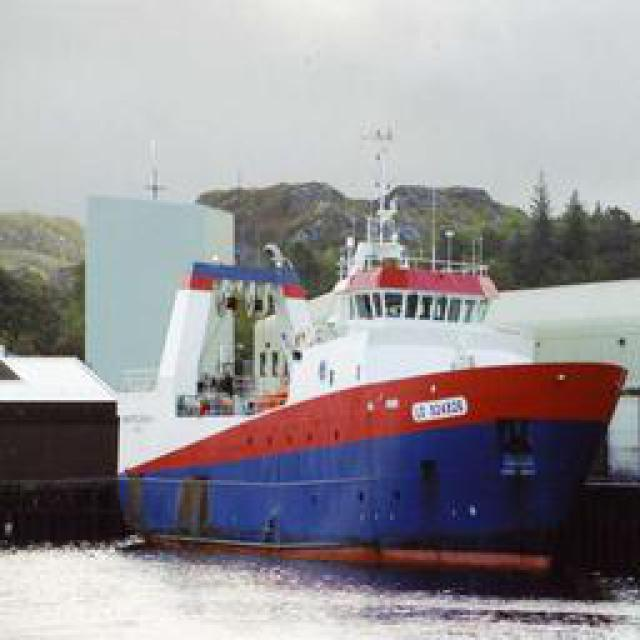Ship: (105, 182, 633, 562)
